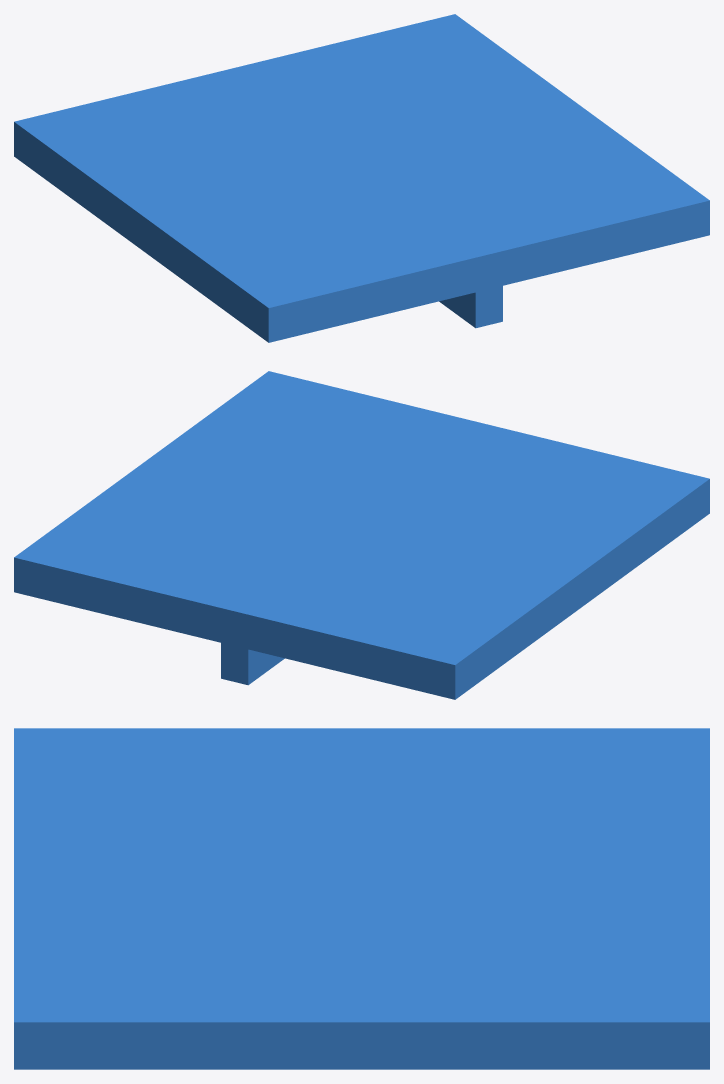
Rendered from Collision_Overhang_Roof_UnevenBricks.fbx.
The picture shows the model from 3 angles, top to bottom: view 1: azimuth 30°, elevation 25°; view 2: azimuth 150°, elevation 25°; view 3: azimuth 270°, elevation 25°; orthographic projection. The views are drawn at different scales.
Visible parts, largest first — view 1: UCX_Overhang_Roof_UnevenBricks_1; view 2: UCX_Overhang_Roof_UnevenBricks_1; view 3: UCX_Overhang_Roof_UnevenBricks_1.
Part boxes in pixels (<box>): UCX_Overhang_Roof_UnevenBricks_1: <box>14,14,709,342</box>; UCX_Overhang_Roof_UnevenBricks_1: <box>14,371,709,699</box>; UCX_Overhang_Roof_UnevenBricks_1: <box>14,728,709,1069</box>.
Size of the model in its own units: 200 by 30.61 by 200.
